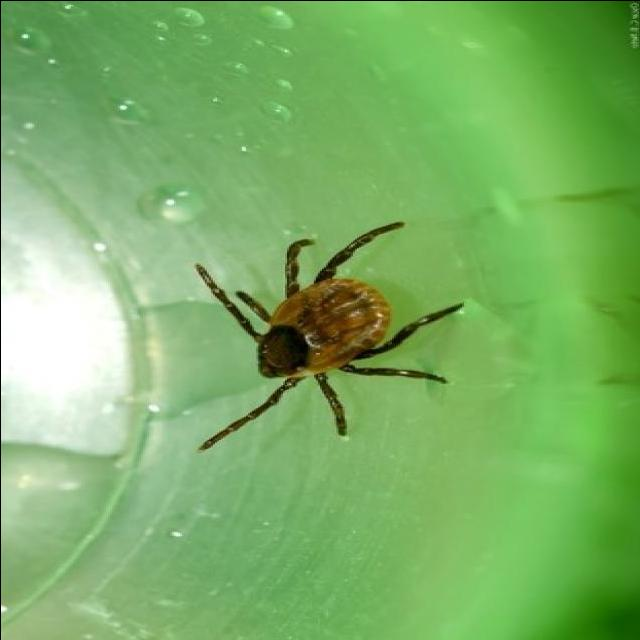Rhipicephalus Sanguineus-F: (193, 224, 463, 449)
